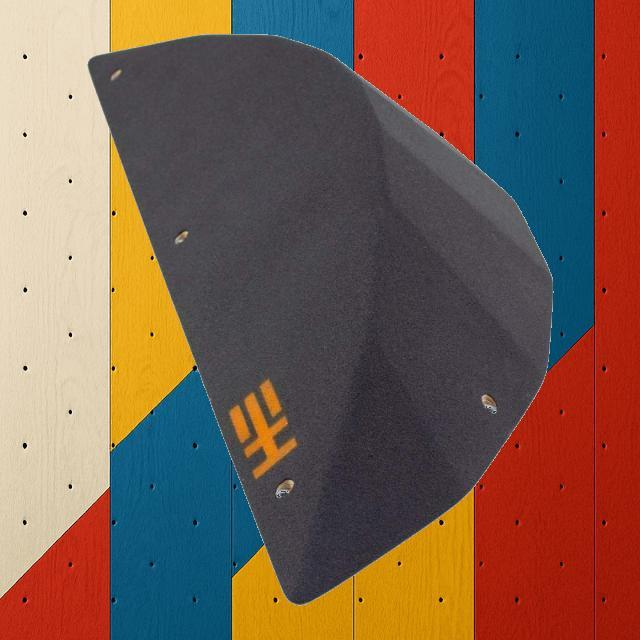Volume: (86, 31, 554, 605)
